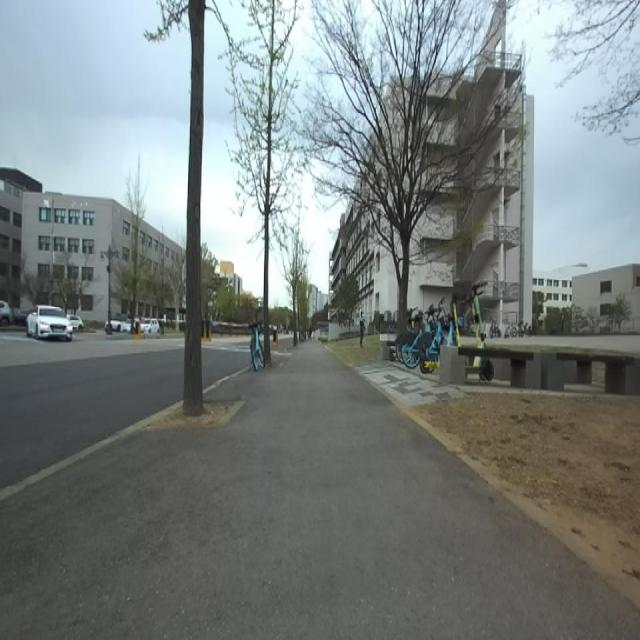sidewalk: (0, 341, 640, 639), (0, 402, 182, 502), (204, 367, 248, 393)
